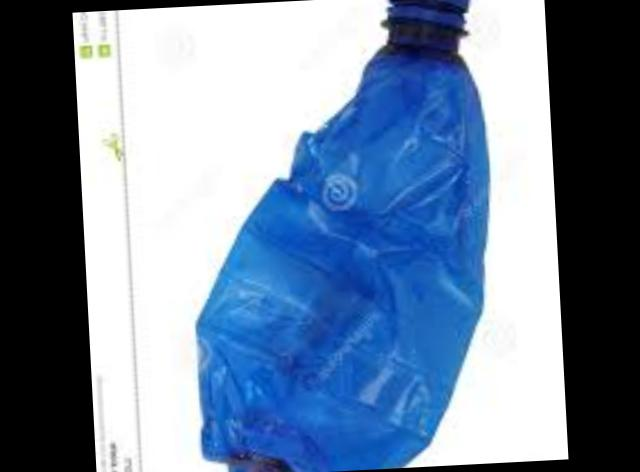plastic: (202, 0, 492, 472)
